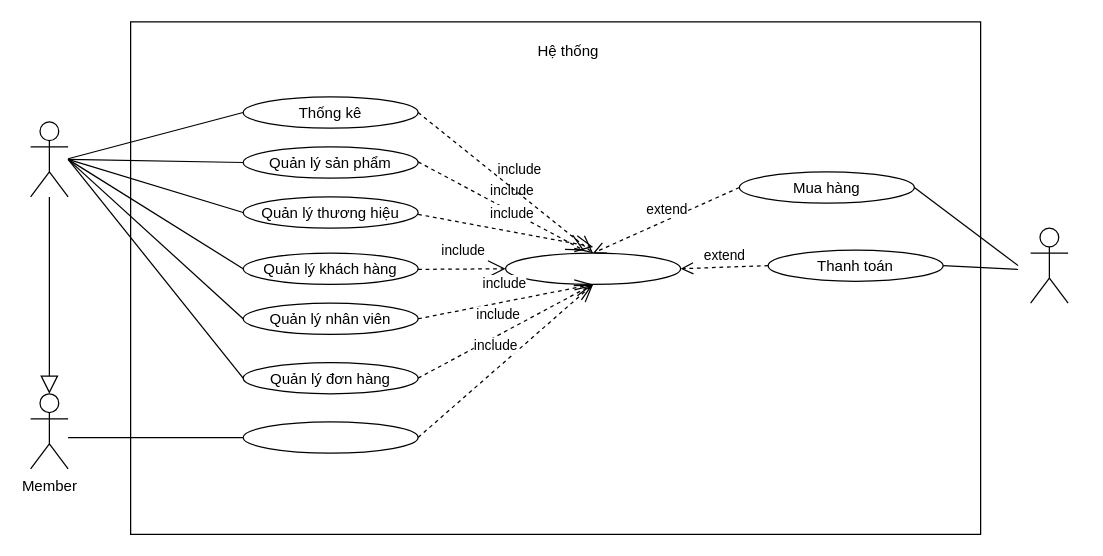
Some shapes in this 1103 by 556 pixel diagram are drawn without their labels. Each missing label, with the centre of its shape:
Admin: the point at 48,159
Customer: the point at 1048,265
Hóa đơn: the point at 330,437
Đăng nhập: the point at 592,268
